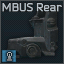Magpul MBUS Gen2 rear flip-up sight Flat Dark Earth: (0, 0, 64, 64)
